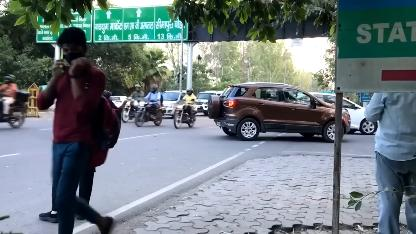bike: (136, 98, 164, 128), (174, 97, 198, 131)
car: (220, 80, 350, 146)
